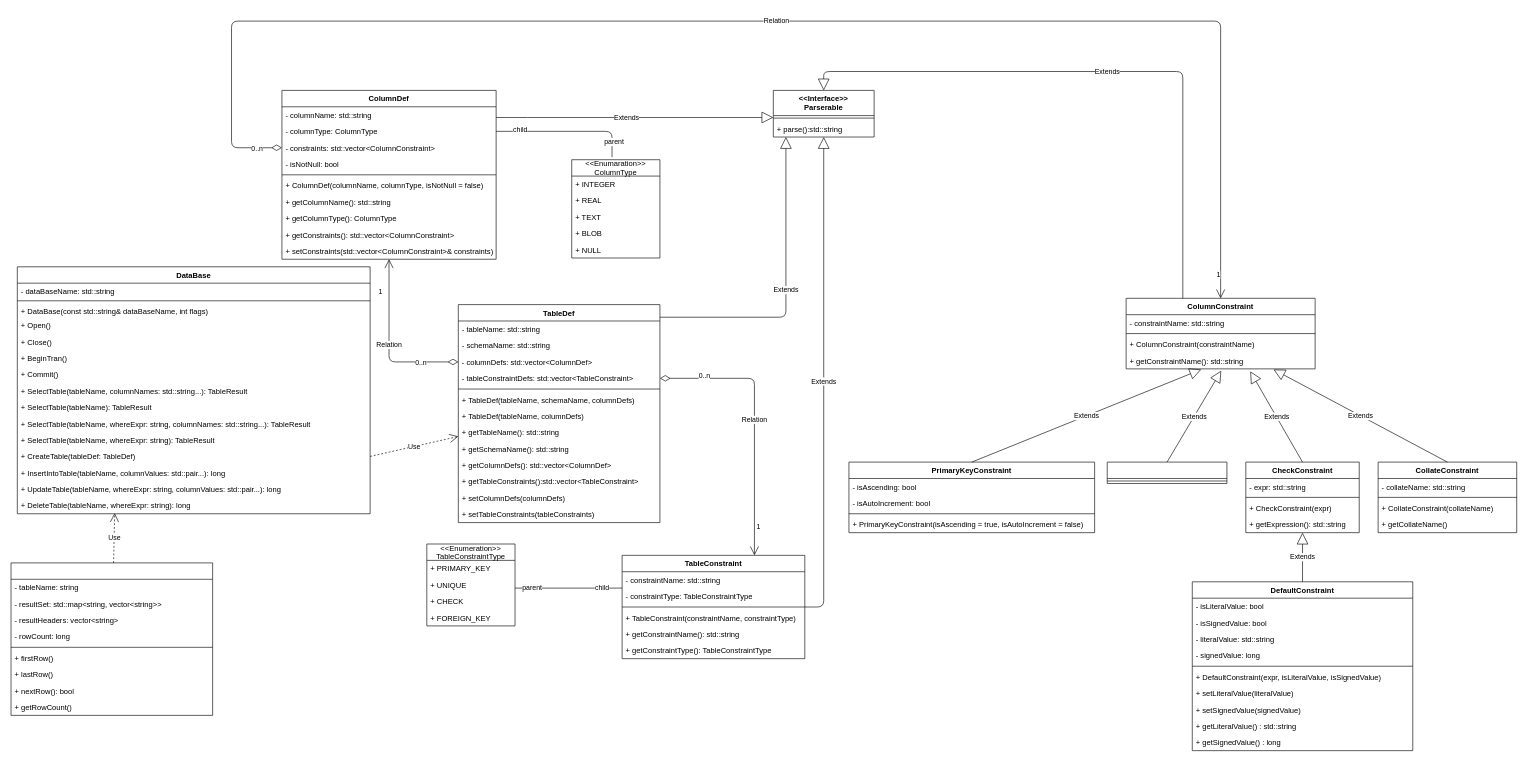
This 1528x764 diagram has some shape labels left out. Each missing label, with the box of its shape:
TableResult: (10, 562, 213, 715)
UniqueConstraint: (1107, 461, 1227, 484)
